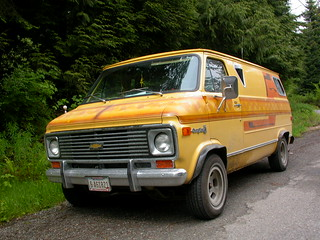van: (43, 48, 294, 218)
